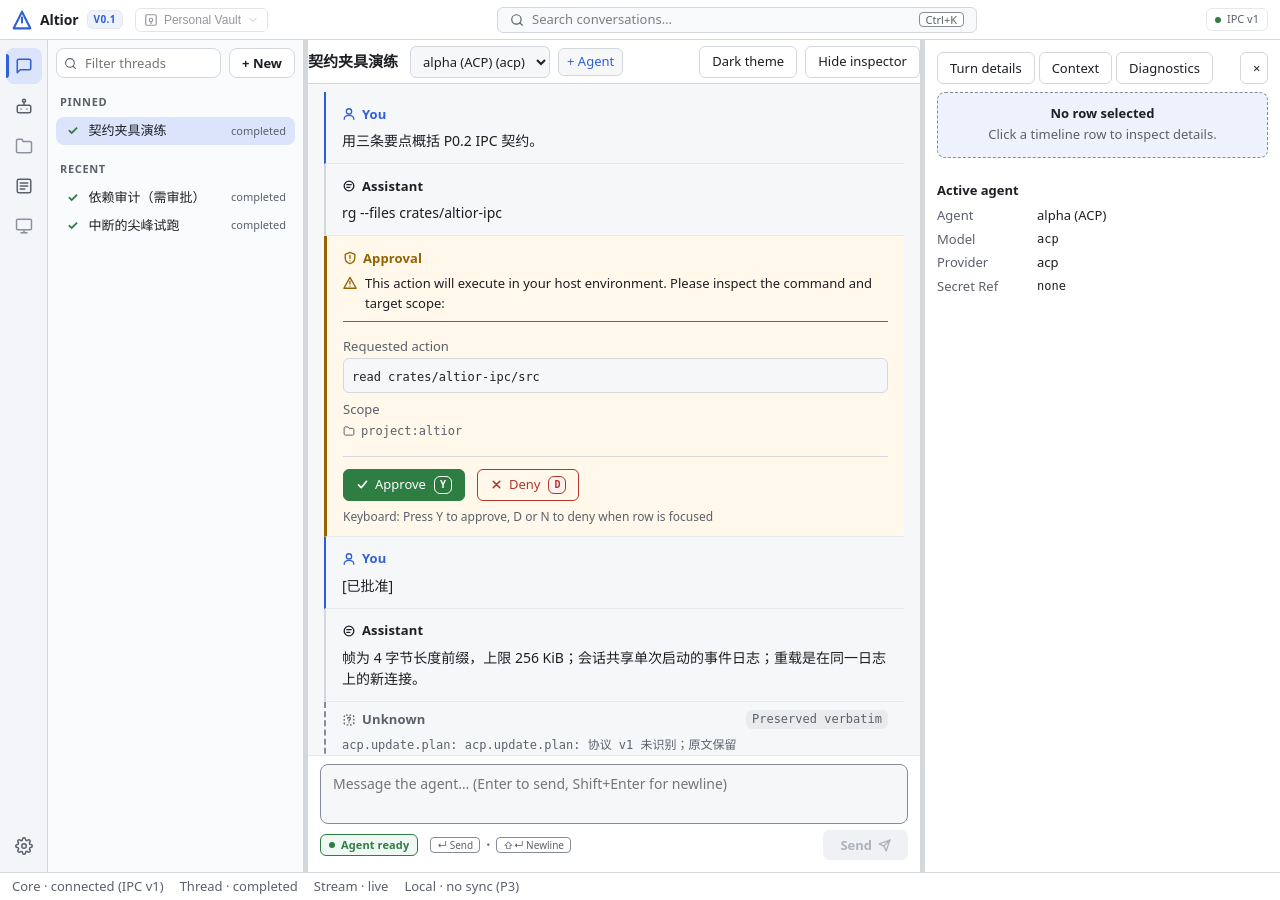
Transport Integration & UI Workflow › allows denying permission from the timeline
This screenshot has width=1280, height=900.
Click the button with test id "thread-thr_fixture000000002" at (176, 197), box left=56, top=183, right=295, bottom=211
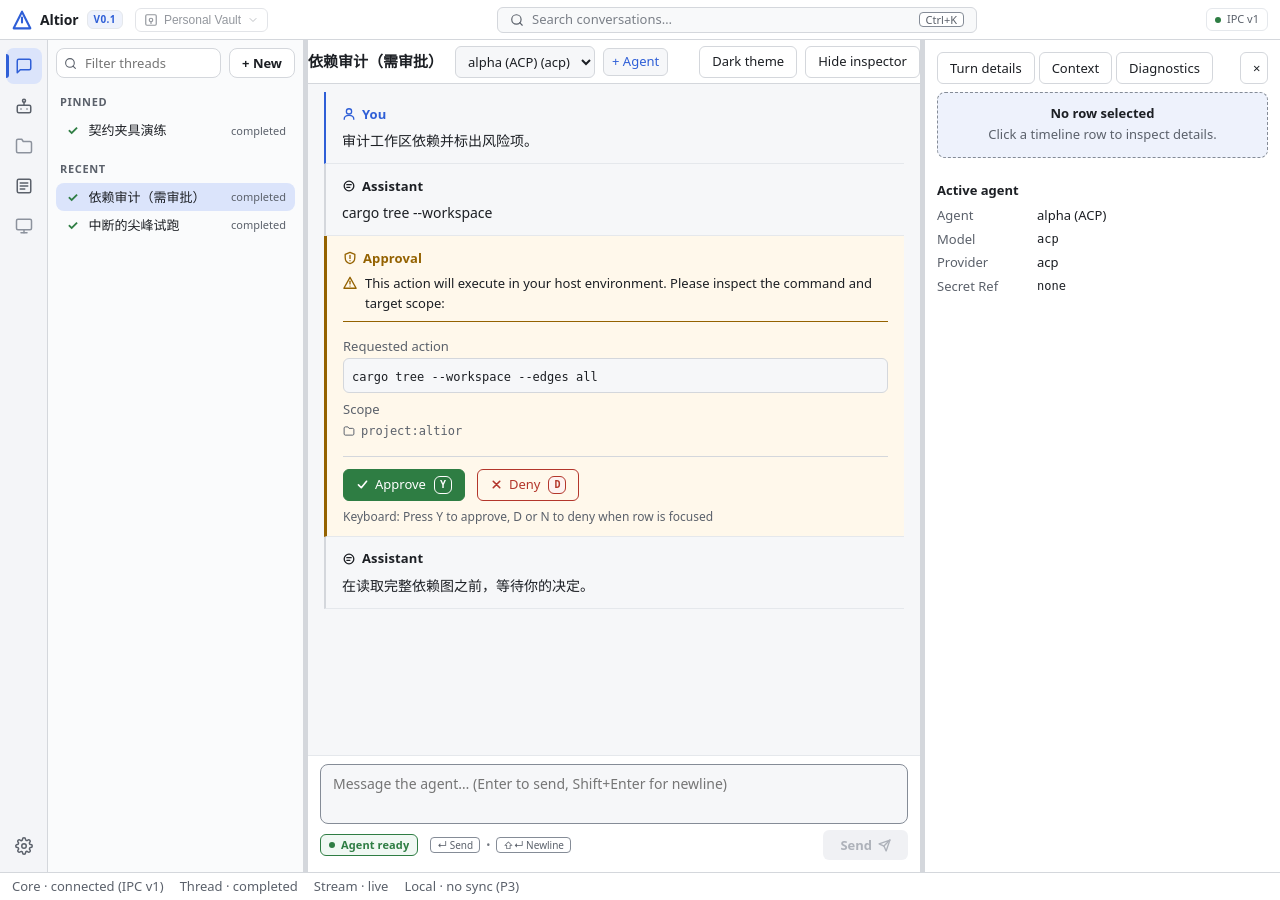
Click the button with test id "deny" at (528, 484), box left=477, top=468, right=580, bottom=500
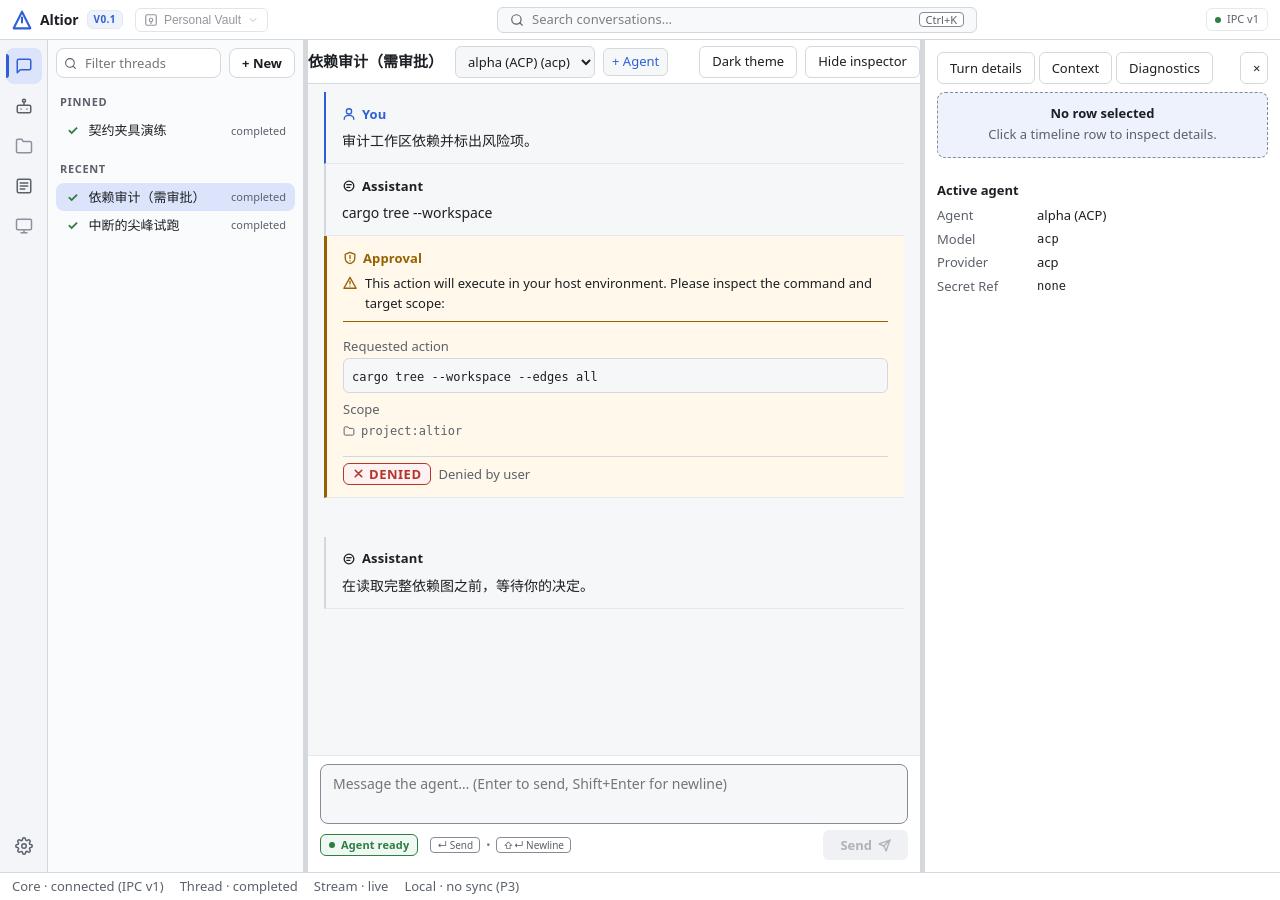
Expected: the element named "Approval entry" shows "denied", left=369, top=464, right=422, bottom=482
